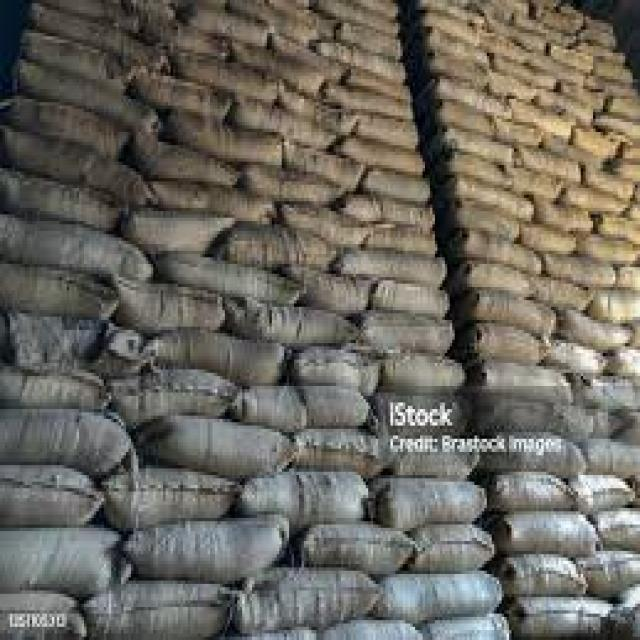cement_bag: (3, 208, 152, 290), (17, 49, 159, 135), (7, 125, 151, 201), (130, 509, 285, 573), (85, 575, 237, 640), (0, 521, 129, 597), (241, 570, 386, 630), (31, 6, 166, 68), (153, 413, 297, 471), (226, 290, 355, 354), (148, 325, 290, 382), (166, 245, 300, 304), (375, 564, 509, 620), (176, 106, 286, 172), (1, 171, 122, 231), (235, 382, 377, 432), (103, 474, 239, 526), (151, 168, 276, 224), (0, 405, 129, 458), (1, 260, 114, 319), (1, 462, 99, 530), (235, 86, 342, 147), (381, 469, 485, 528), (134, 64, 234, 121), (3, 356, 108, 410), (242, 467, 373, 510), (116, 277, 224, 329), (281, 196, 376, 255), (293, 337, 386, 396), (114, 370, 241, 413), (177, 45, 278, 97), (472, 283, 554, 346), (464, 219, 544, 283), (480, 354, 574, 408), (488, 427, 587, 476), (505, 507, 600, 557), (297, 425, 395, 471), (339, 248, 449, 288), (362, 309, 454, 356), (553, 306, 632, 359), (303, 530, 407, 570), (336, 132, 427, 177), (129, 208, 234, 246), (459, 172, 537, 222), (185, 4, 269, 49), (520, 593, 613, 633), (275, 35, 350, 83), (326, 80, 417, 118), (503, 556, 587, 596), (439, 75, 511, 121), (391, 344, 460, 391), (445, 122, 515, 168), (511, 95, 575, 143), (496, 472, 579, 509), (341, 19, 407, 60), (494, 53, 557, 95), (545, 249, 618, 284), (522, 145, 581, 186), (363, 167, 428, 203), (487, 15, 546, 54), (423, 9, 482, 47), (435, 51, 489, 89), (566, 181, 628, 213), (580, 231, 636, 264), (550, 43, 594, 79), (575, 126, 618, 160), (604, 508, 640, 548), (564, 78, 604, 111)
